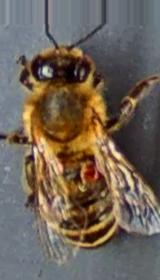varroa_mite: (68, 154, 110, 193)
